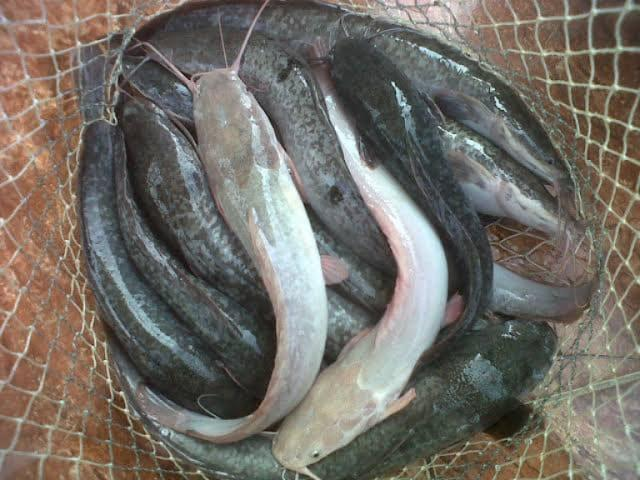Mulut: (176, 35, 254, 125), (522, 143, 586, 213), (306, 13, 374, 65), (260, 422, 304, 480)
Sirip Dada: (470, 384, 540, 456), (410, 72, 488, 126), (354, 375, 424, 435), (334, 116, 388, 188), (271, 134, 319, 210)
Sirip Ekor: (84, 334, 218, 451)
Sirip Perut: (294, 231, 360, 311), (426, 276, 476, 344)
Sirip Punggung: (176, 208, 324, 444), (328, 131, 420, 367)
